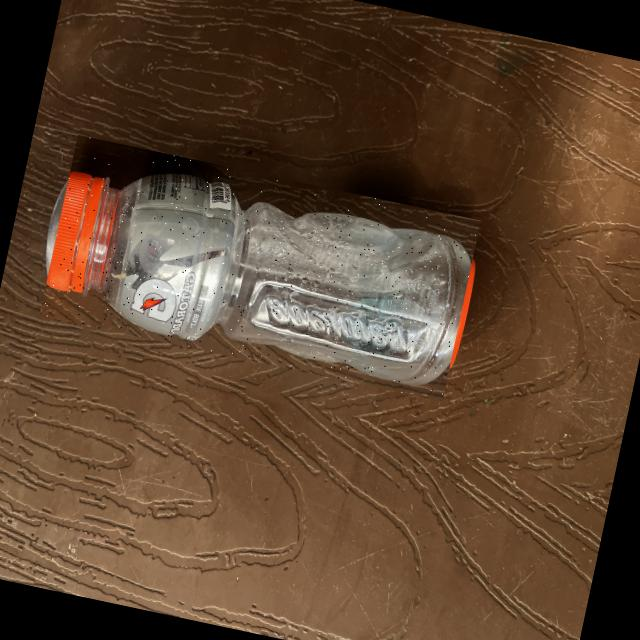REJECT: (38, 134, 480, 401)
